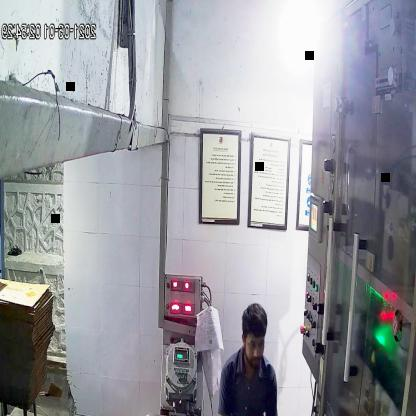no_goggles: (242, 334, 267, 357)
